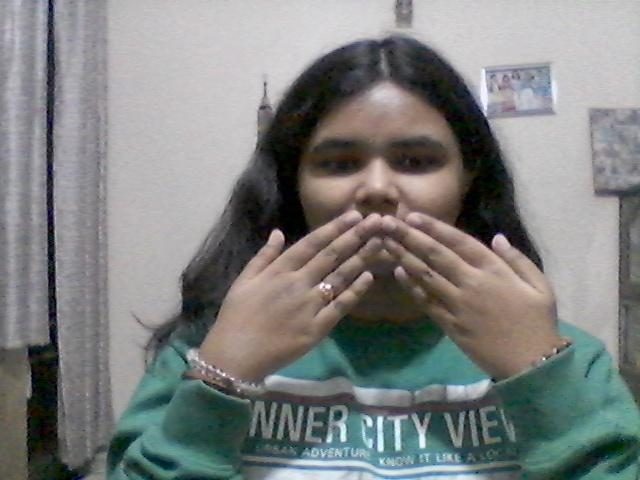thank you: (190, 204, 570, 394)
